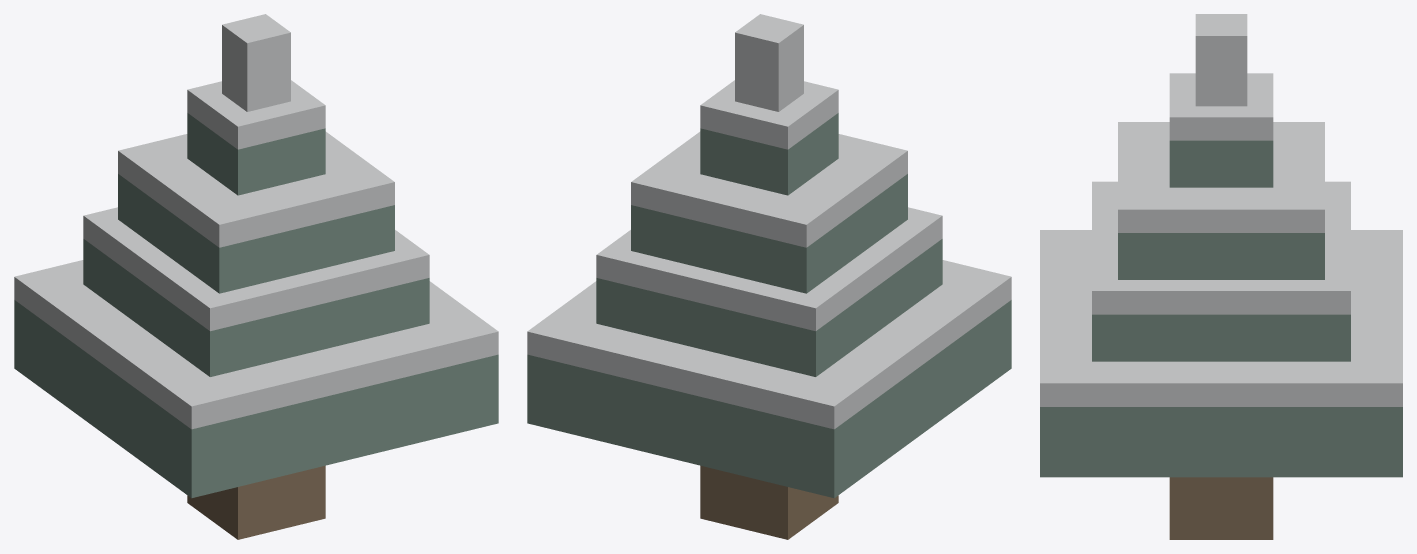
The model's file is abeto_blanco_subalpino_01.glb.
3 views of the same model, side by side, from view 1: azimuth 30°, elevation 25°; view 2: azimuth 150°, elevation 25°; view 3: azimuth 270°, elevation 25° (orthographic). The views are drawn at different scales.
Parts seen in each view (by area): view 1: abeto_blanco_subalpino_01; view 2: abeto_blanco_subalpino_01; view 3: abeto_blanco_subalpino_01.
Boxes of the visible parts, left/top/right/bottom form: abeto_blanco_subalpino_01: left=14, top=14, right=498, bottom=539; abeto_blanco_subalpino_01: left=527, top=14, right=1011, bottom=539; abeto_blanco_subalpino_01: left=1040, top=14, right=1402, bottom=539.
Size of the model in its own units: 1.4 by 2.1 by 1.4.
